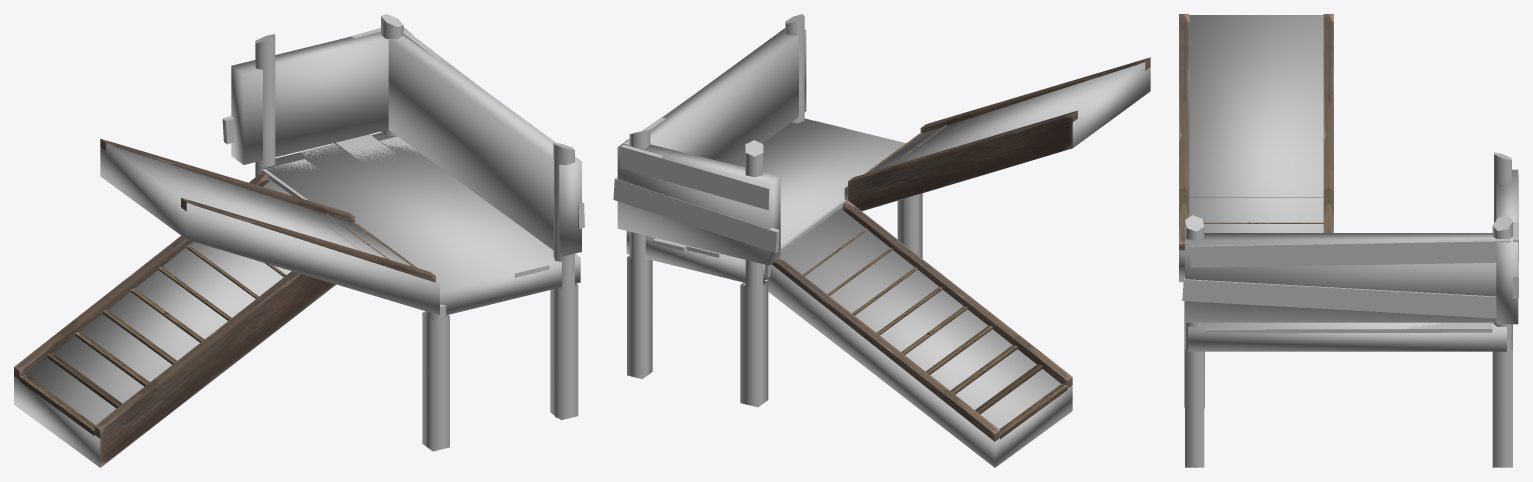
The model's file is fenceWalk_stairs01.FBX.
The picture shows the model from 3 angles, left to right: view 1: azimuth 30°, elevation 25°; view 2: azimuth 150°, elevation 25°; view 3: azimuth 270°, elevation 25°; orthographic projection. The views are drawn at different scales.
Parts seen in each view (by area): view 1: fenceWalk_stairs01_COL, fenceWalk_stairs01; view 2: fenceWalk_stairs01_COL, fenceWalk_stairs01; view 3: fenceWalk_stairs01_COL, fenceWalk_stairs01.
Boxes of the visible parts, <box> form: fenceWalk_stairs01_COL: <box>14,27,581,467</box>; fenceWalk_stairs01: <box>14,14,584,467</box>; fenceWalk_stairs01_COL: <box>617,28,1150,467</box>; fenceWalk_stairs01: <box>613,14,1150,441</box>; fenceWalk_stairs01_COL: <box>1179,15,1518,467</box>; fenceWalk_stairs01: <box>1179,14,1518,467</box>.
Size of the model in its own units: 408 by 316 by 329.
